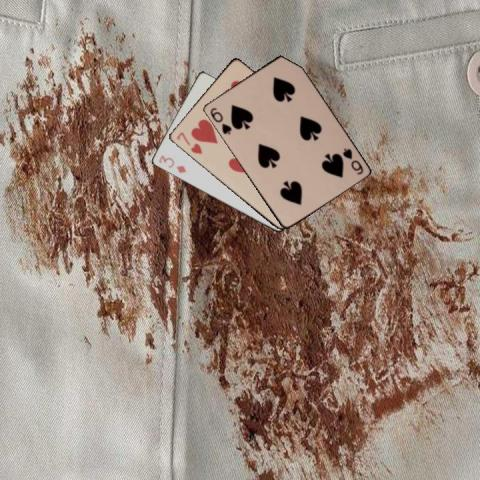3d: (155, 152, 188, 175)
6s: (206, 105, 232, 136), (339, 145, 365, 176)
7h: (174, 130, 204, 156)
